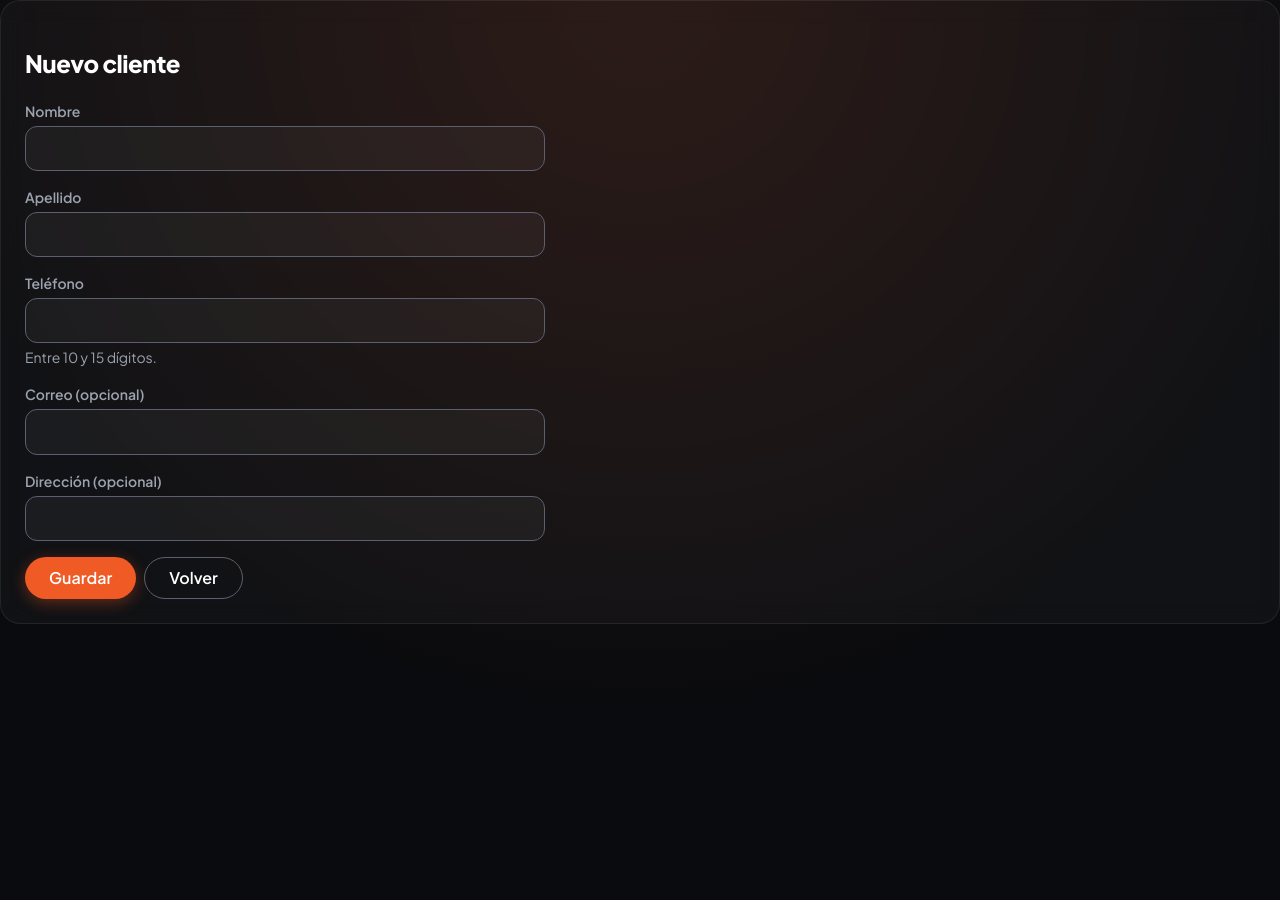
Test: formulario de clientes › muestra_los_errores_por_campo_devueltos_por_el_servidor
Type "Luis" into the field labelled "Nombre" at point(285, 148), box [25,126,545,171]
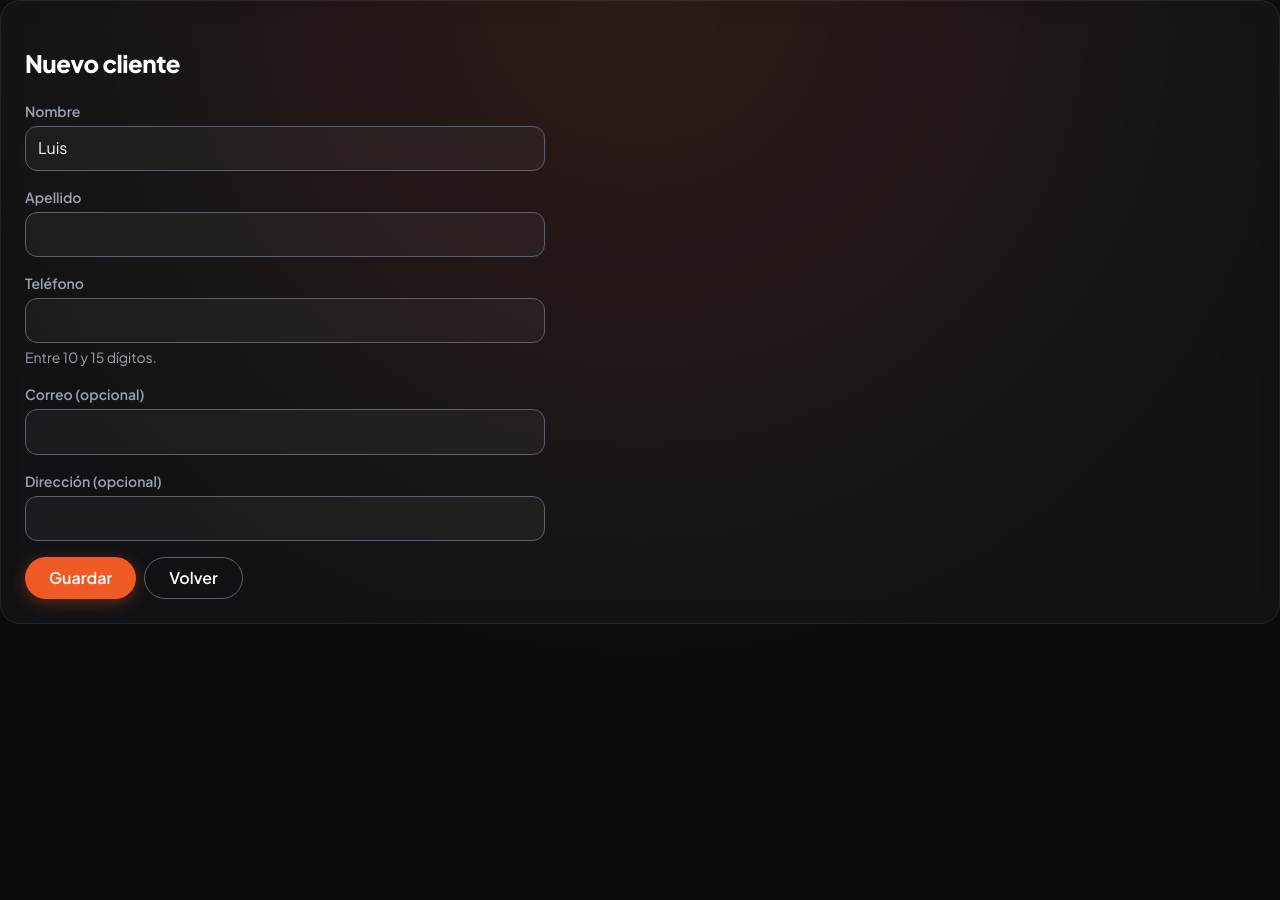
Type "Pérez" into the field labelled "Apellido" at point(285, 235), box [25,212,545,257]
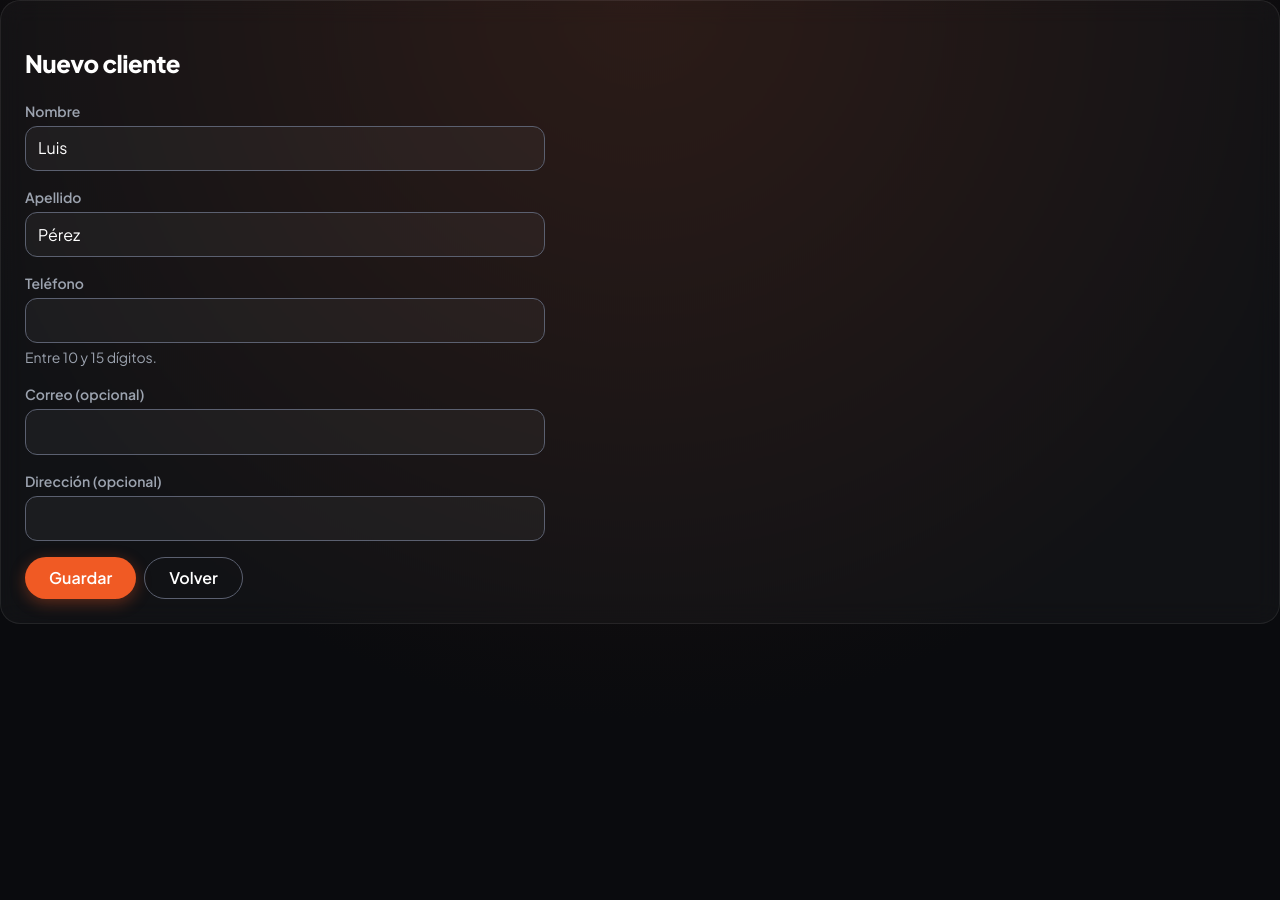
Type "5512345678" into the field labelled "Teléfono" at point(285, 321), box [25,298,545,343]
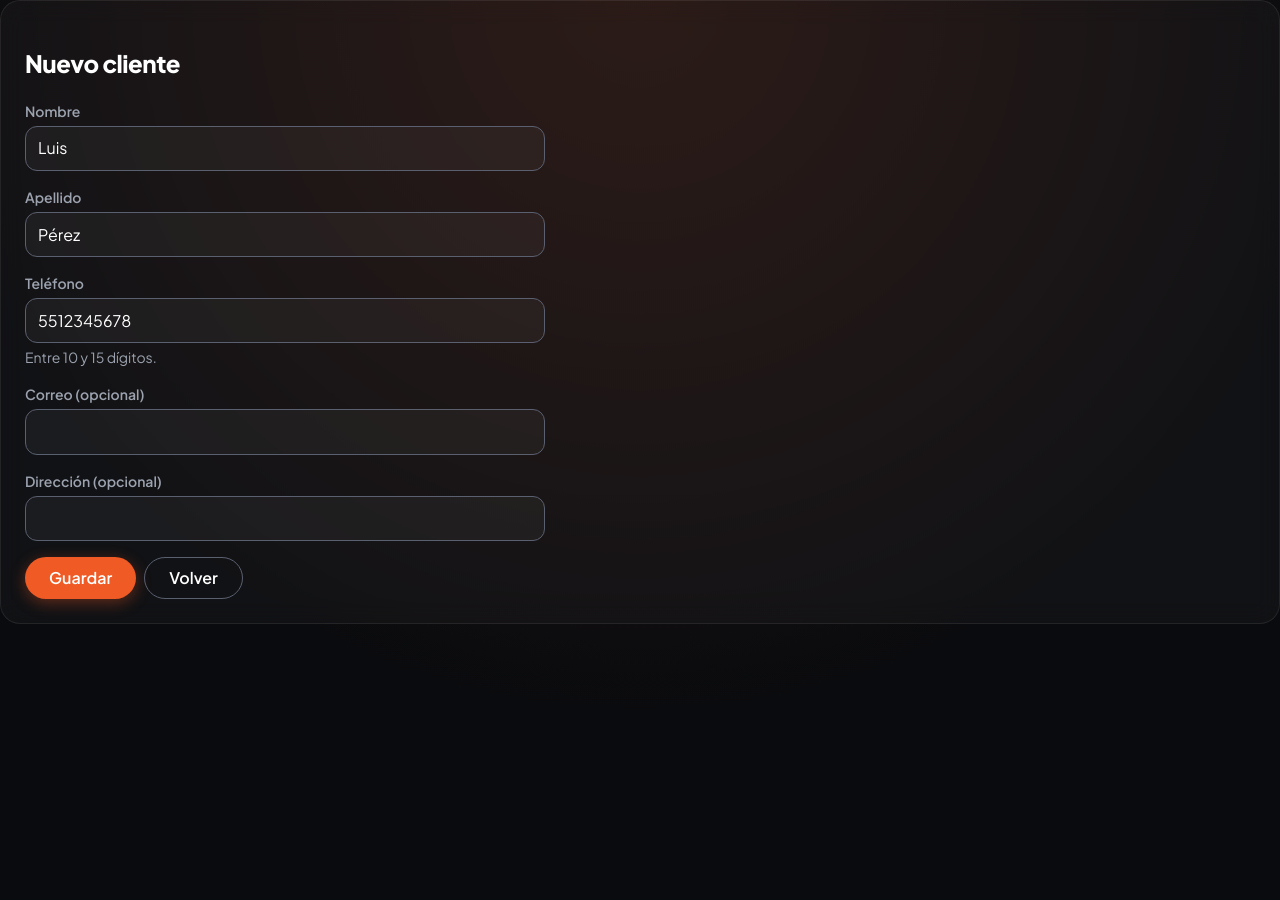
Type "luis@correo.com" into the field labelled "Correo (opcional)" at point(285, 432), box [25,409,545,455]
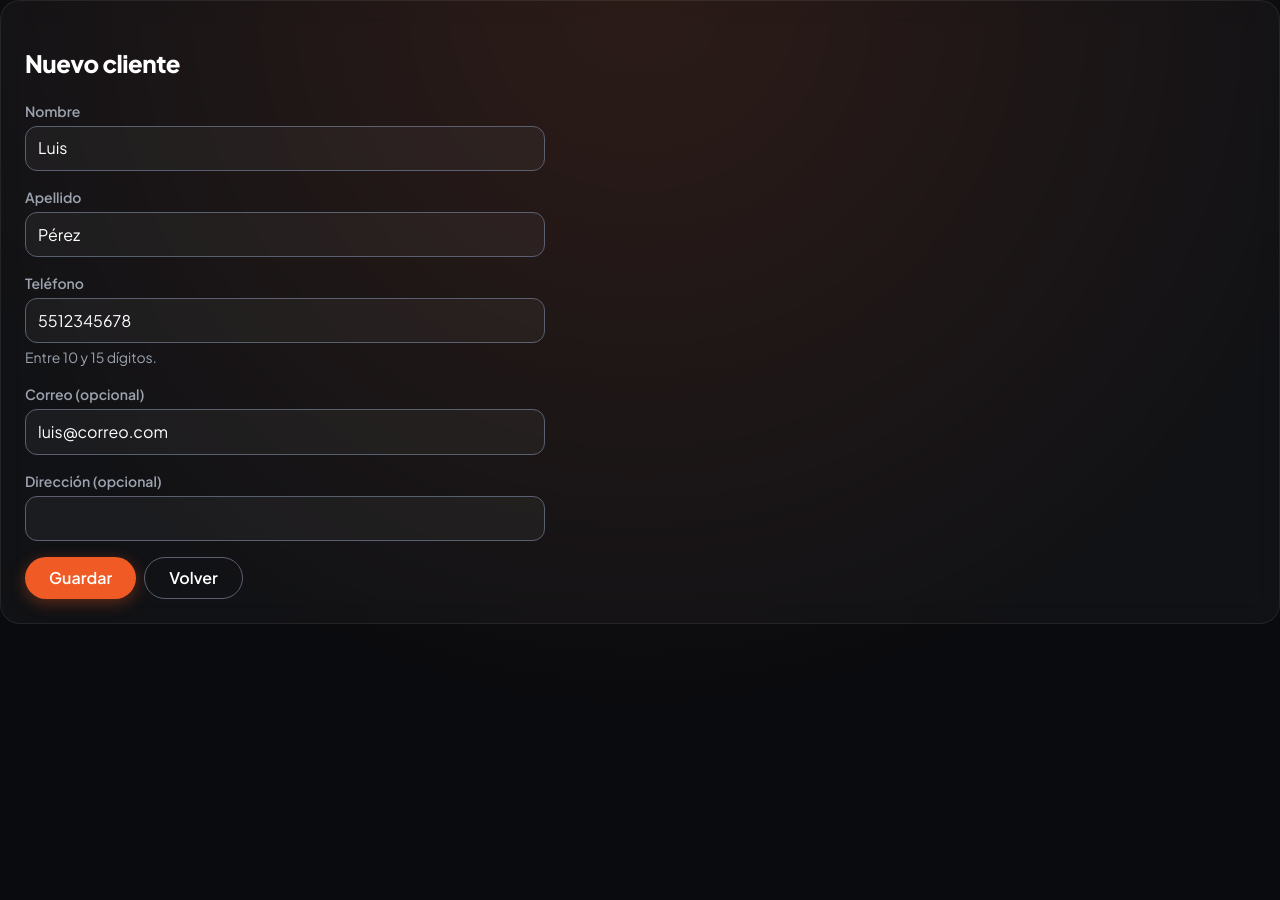
Click the button "Guardar" at point(81, 578), box [25,557,136,599]
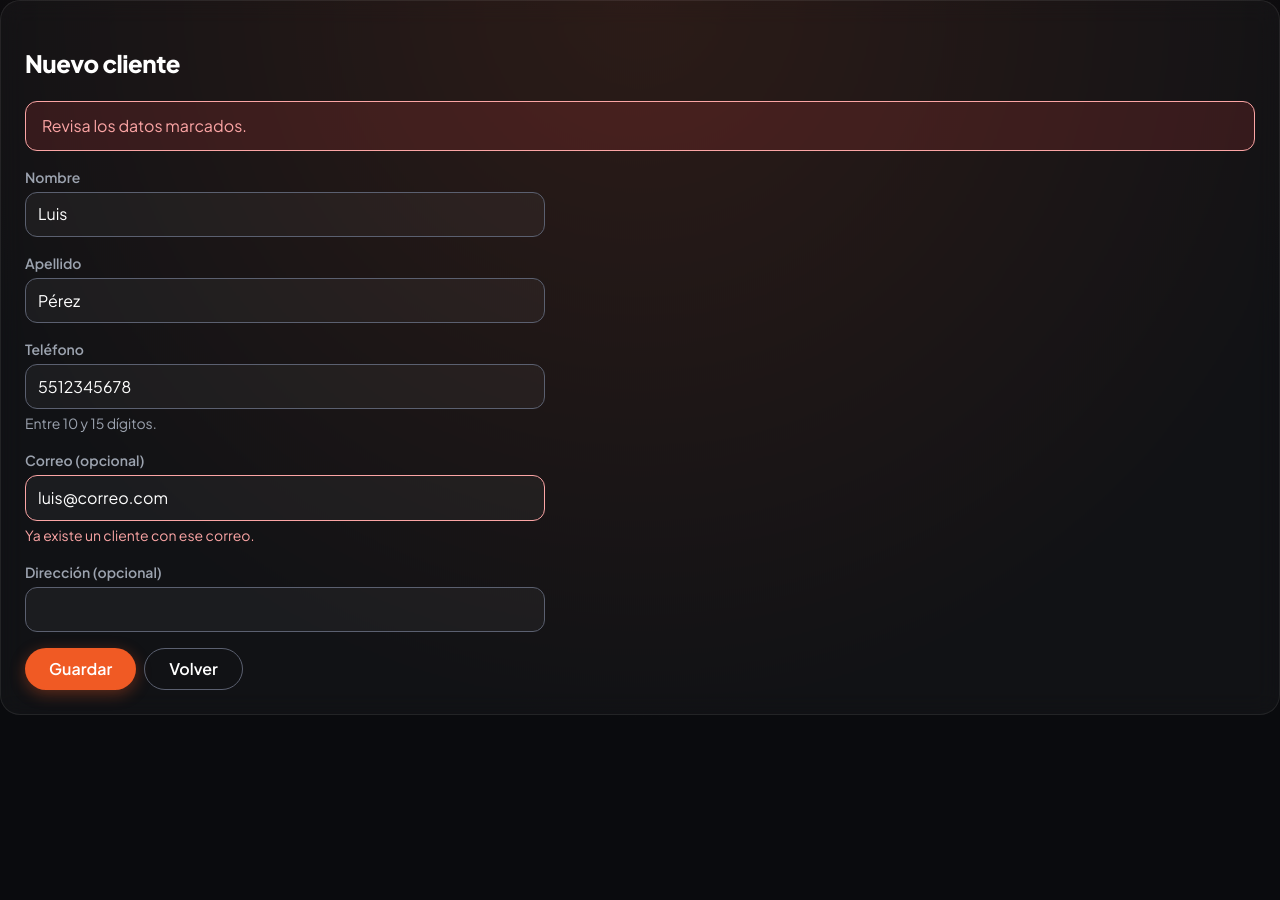
Expected: the text "Ya existe un cliente con ese correo." is shown, [25,526,254,544]
Expected: the message reads "Revisa los datos marcados.", [42,115,247,136]
